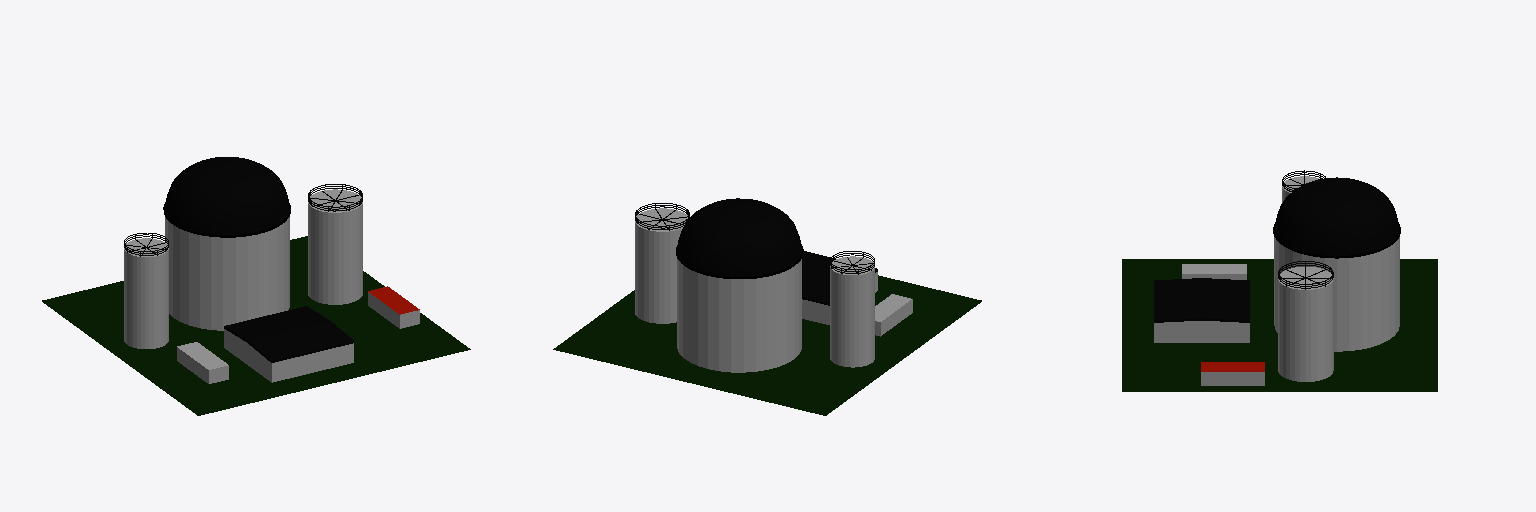
Rendered from bio-digestor.obj.
3 renders of one model, left to right at view 1: azimuth 30°, elevation 25°; view 2: azimuth 150°, elevation 25°; view 3: azimuth 270°, elevation 25°, orthographic.
Parts seen in each view (by area): view 1: Plane; view 2: Plane; view 3: Plane.
Part boxes in pixels (bbox=[...]): Plane: bbox=[42, 157, 470, 415]; Plane: bbox=[553, 198, 981, 415]; Plane: bbox=[1122, 170, 1437, 391].
Bounding box in the file's own units: 34 × 16.5 × 34.